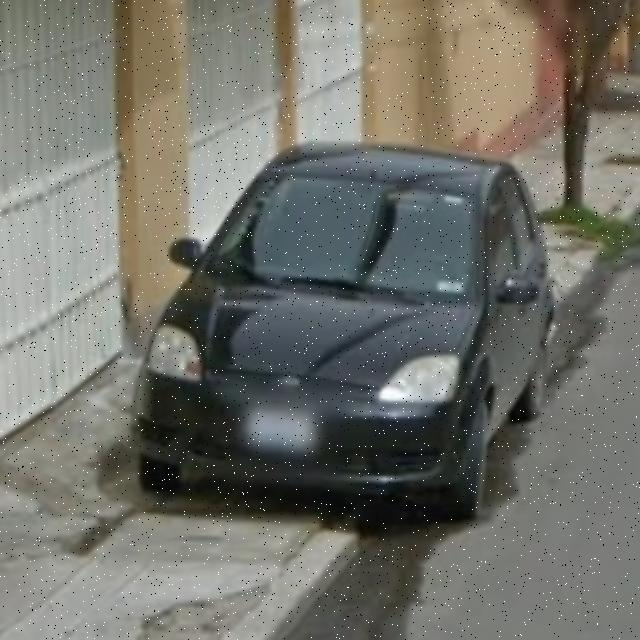cars: (127, 141, 557, 524)
